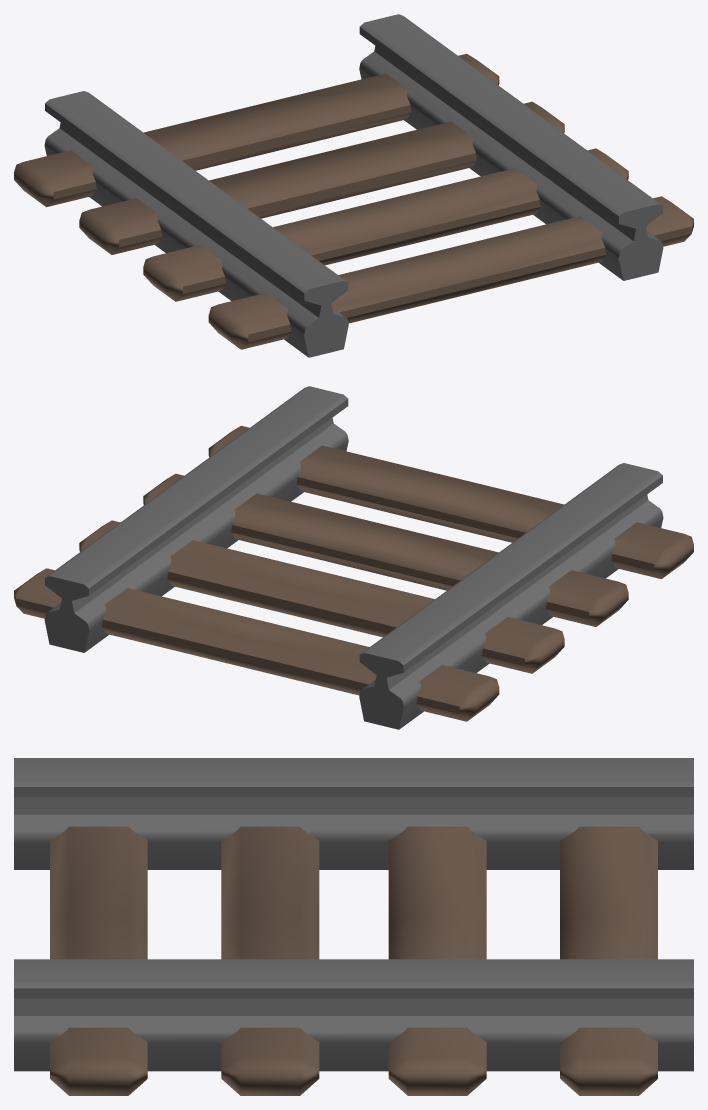
The model's file is railElement.fbx.
3 renders of one model, top to bottom at view 1: azimuth 30°, elevation 25°; view 2: azimuth 150°, elevation 25°; view 3: azimuth 270°, elevation 25°, orthographic. The views are drawn at different scales.
Visible parts, largest first — view 1: railelement; view 2: railelement; view 3: railelement.
Boxes of the visible parts, left/top/right/bottom form: railelement: left=14, top=14, right=693, bottom=357; railelement: left=14, top=386, right=693, bottom=729; railelement: left=14, top=758, right=693, bottom=1095.
Bounding box in the file's own units: 1.03 × 0.1457 × 0.9999.
